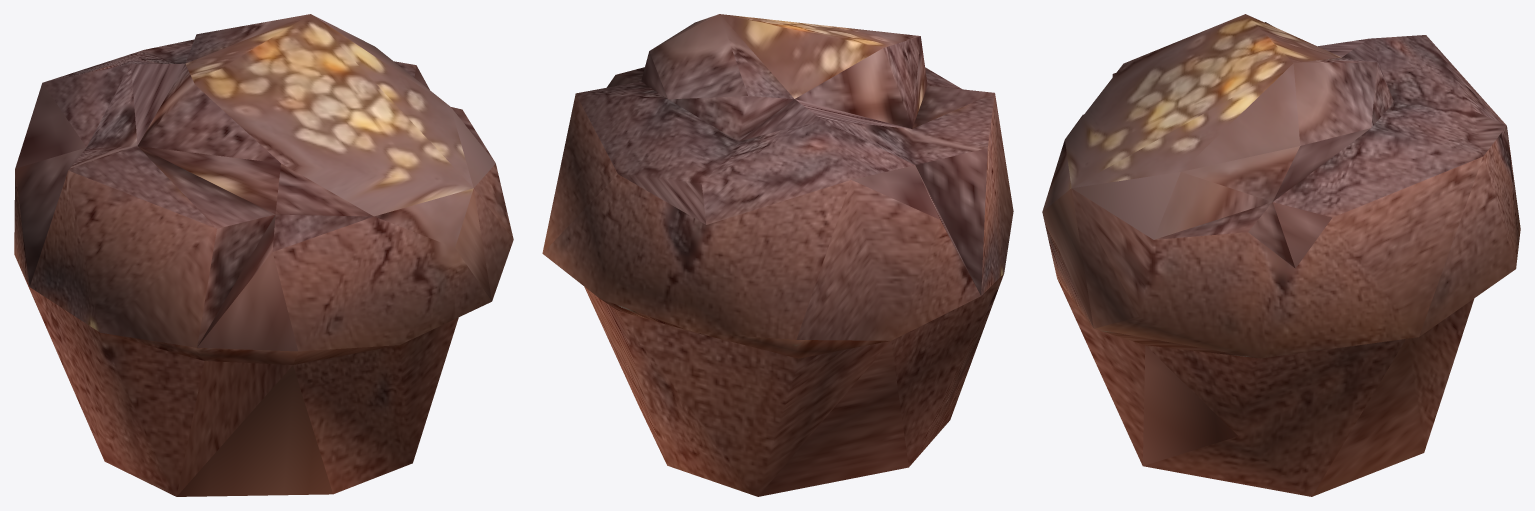
File: muffin_110.obj
The picture shows the model from 3 angles, left to right: view 1: azimuth 30°, elevation 25°; view 2: azimuth 150°, elevation 25°; view 3: azimuth 270°, elevation 25°; orthographic projection. The views are drawn at different scales.
Size of the model in its own units: 14.15 by 13.12 by 14.25.
1 material, 1 textured.
